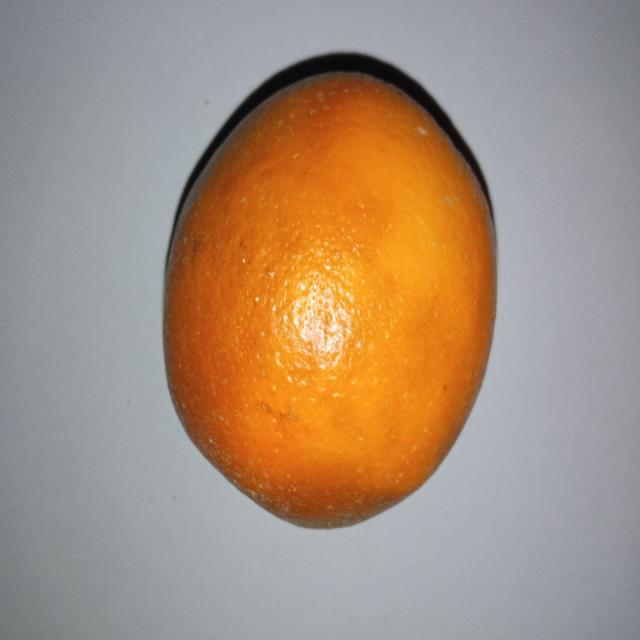rotten_orange: (161, 66, 493, 533)
